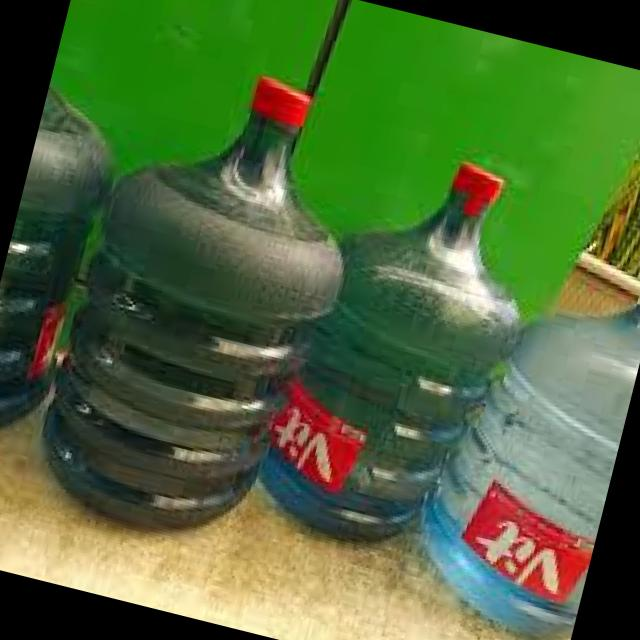Galon: (271, 119, 640, 640), (26, 28, 390, 556)
